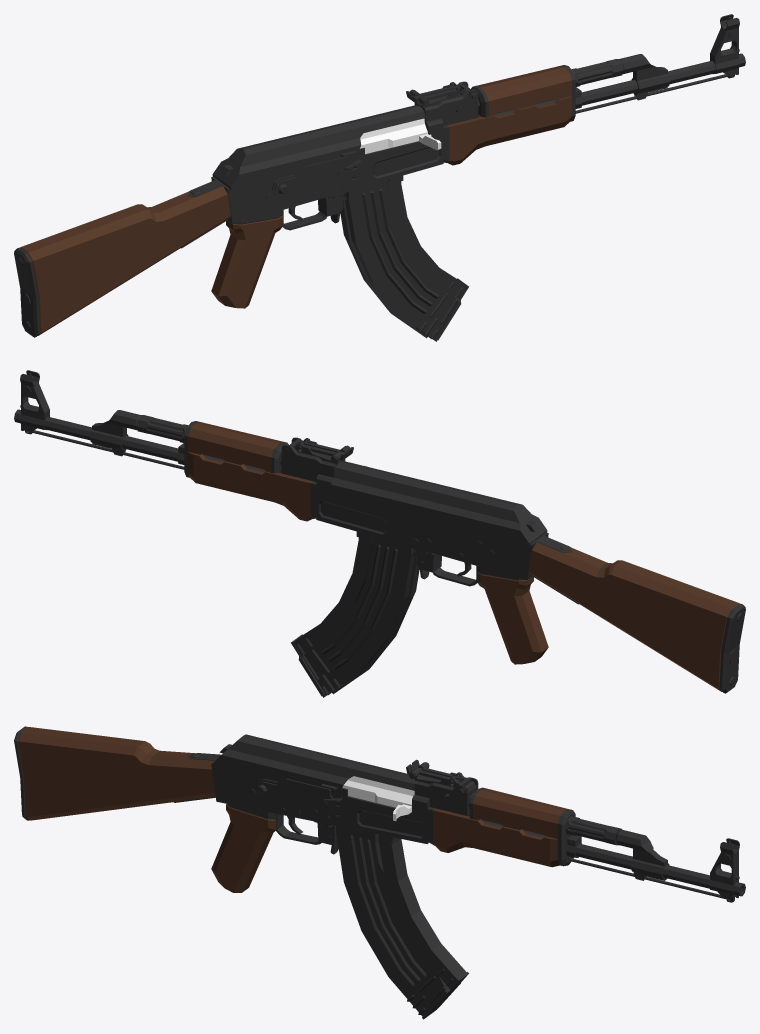
3 views of the same model, one above another, from view 1: azimuth 30°, elevation 25°; view 2: azimuth 150°, elevation 25°; view 3: azimuth 330°, elevation 25° (orthographic).
Visible parts, largest first — view 1: Cube, 7.62x39 mag.002, Cylinder, Cube.005; view 2: Cube, 7.62x39 mag.002; view 3: Cube, 7.62x39 mag.002, Cylinder, Cube.005.
Part boxes in pixels (x1=…): Cube: x1=14, y1=14, x2=745, y2=337; 7.62x39 mag.002: x1=340, y1=175, x2=468, y2=341; Cylinder: x1=271, y1=148, x2=364, y2=197; Cube.005: x1=360, y1=118, x2=441, y2=154; Cube: x1=14, y1=370, x2=745, y2=693; 7.62x39 mag.002: x1=291, y1=531, x2=419, y2=697; Cube: x1=14, y1=726, x2=745, y2=902; 7.62x39 mag.002: x1=336, y1=826, x2=468, y2=1019; Cylinder: x1=254, y1=775, x2=347, y2=801; Cube.005: x1=342, y1=776, x2=414, y2=820.
Bounding box in the file's own units: 840 × 274 × 63.58.
